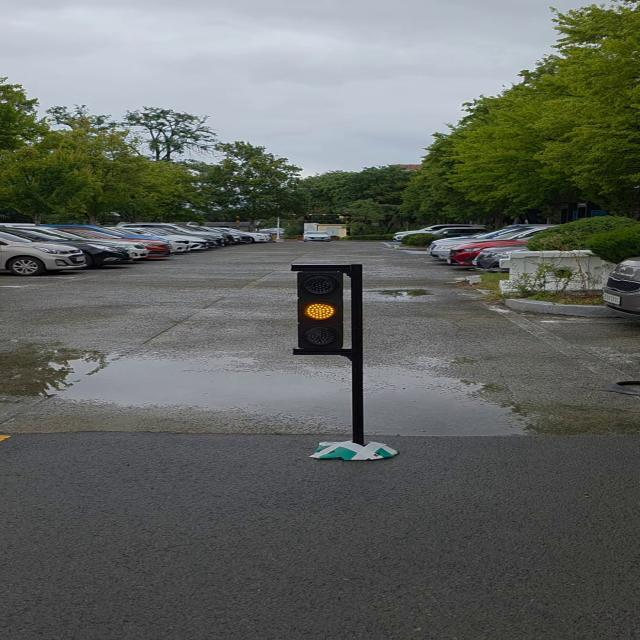yellow: (294, 264, 350, 354)
